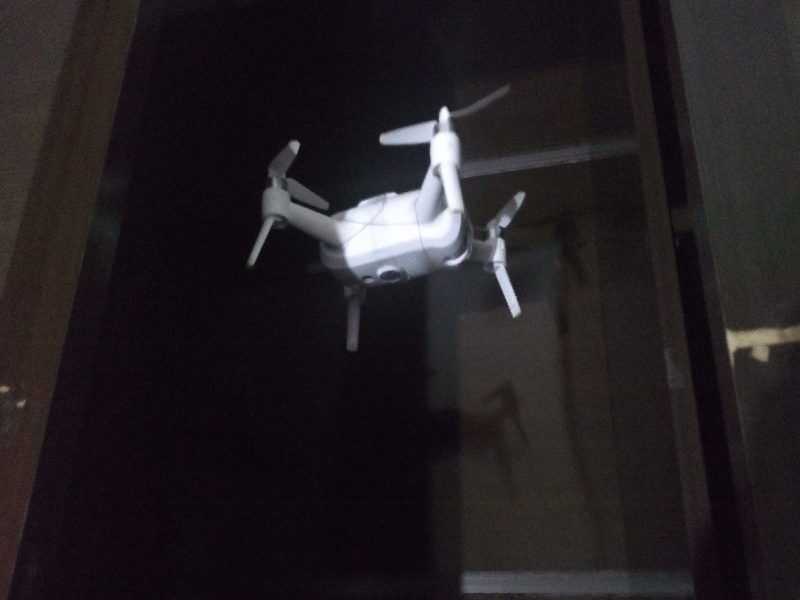drone: (239, 92, 550, 359)
